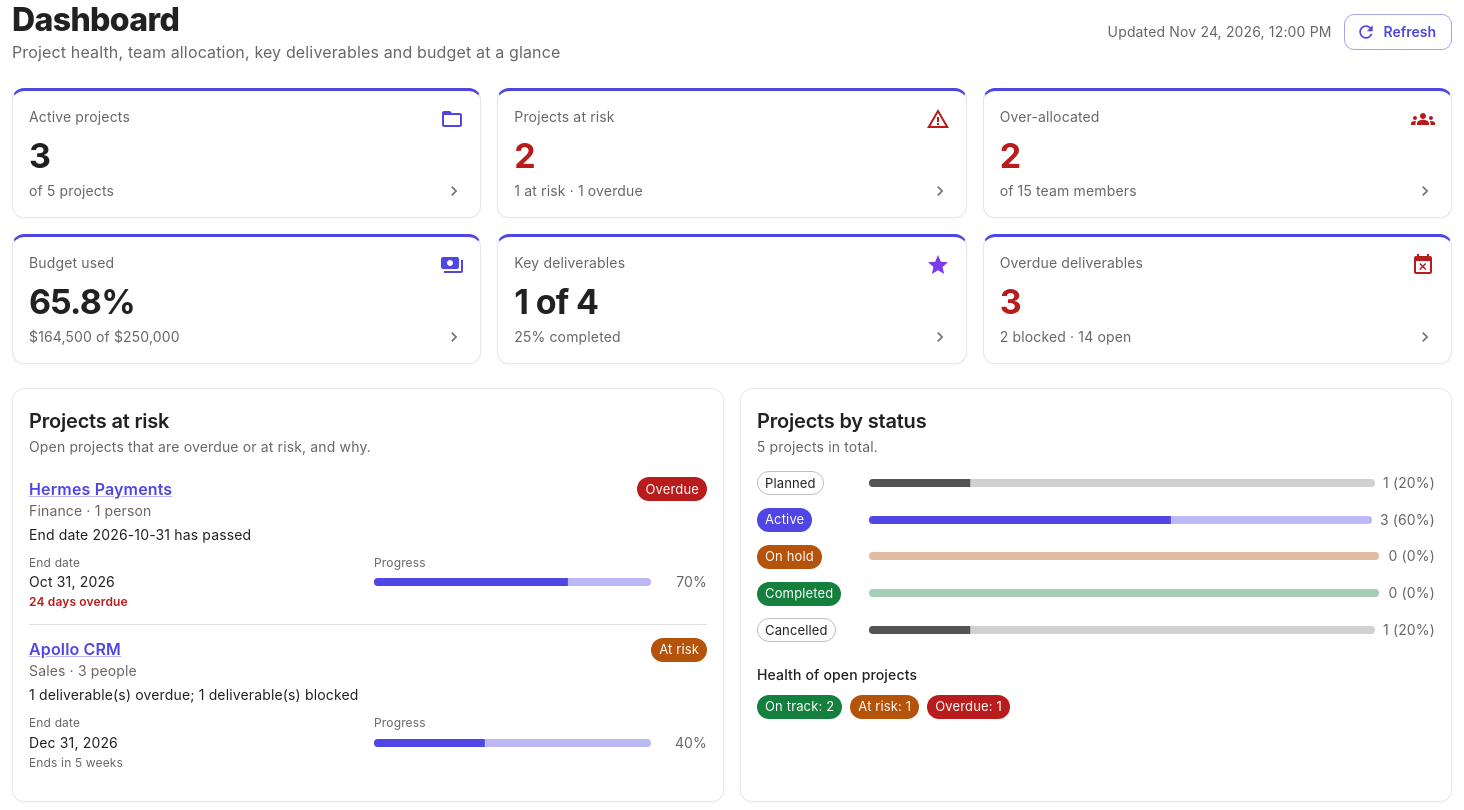
Scenario: DashboardPage › words due and end dates against the snapshot's date, not the viewer's clock
Click the button "Refresh". click: (1398, 32)
box: 1344,14 -> 1452,50
(page scrolled)
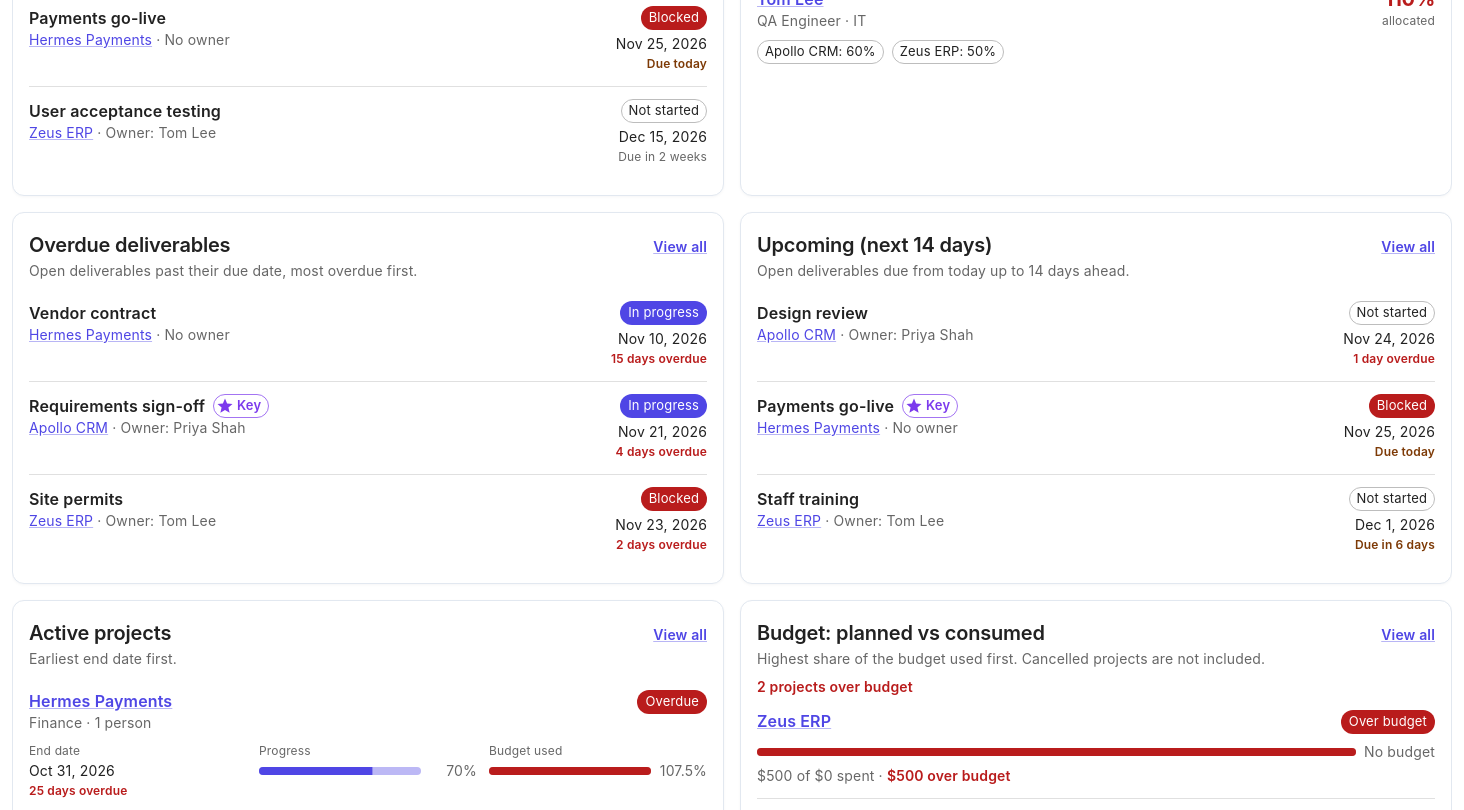
Now the element showing "Nov 24, 2026 1 day overdue" is shown, box 1343,329 -> 1435,369
Now the element showing "Nov 25, 2026 Due today" below "1 day overdue" is shown, box 1344,422 -> 1435,462
